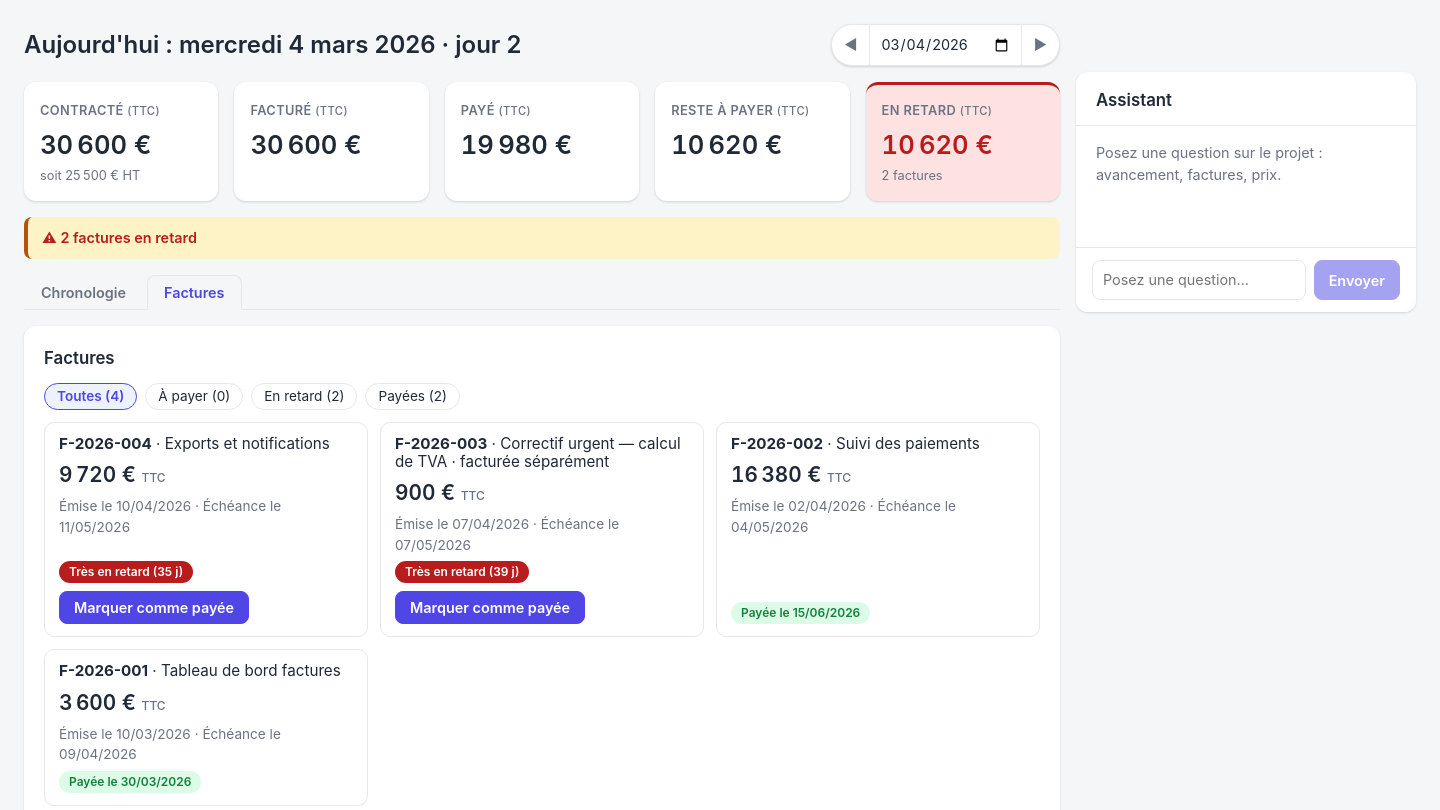
ClientPage › the invoice drawer › closes with ✕ and refocuses the card
Click the button "F-2026-003": coordinates (542, 453) [395,435,689,471]
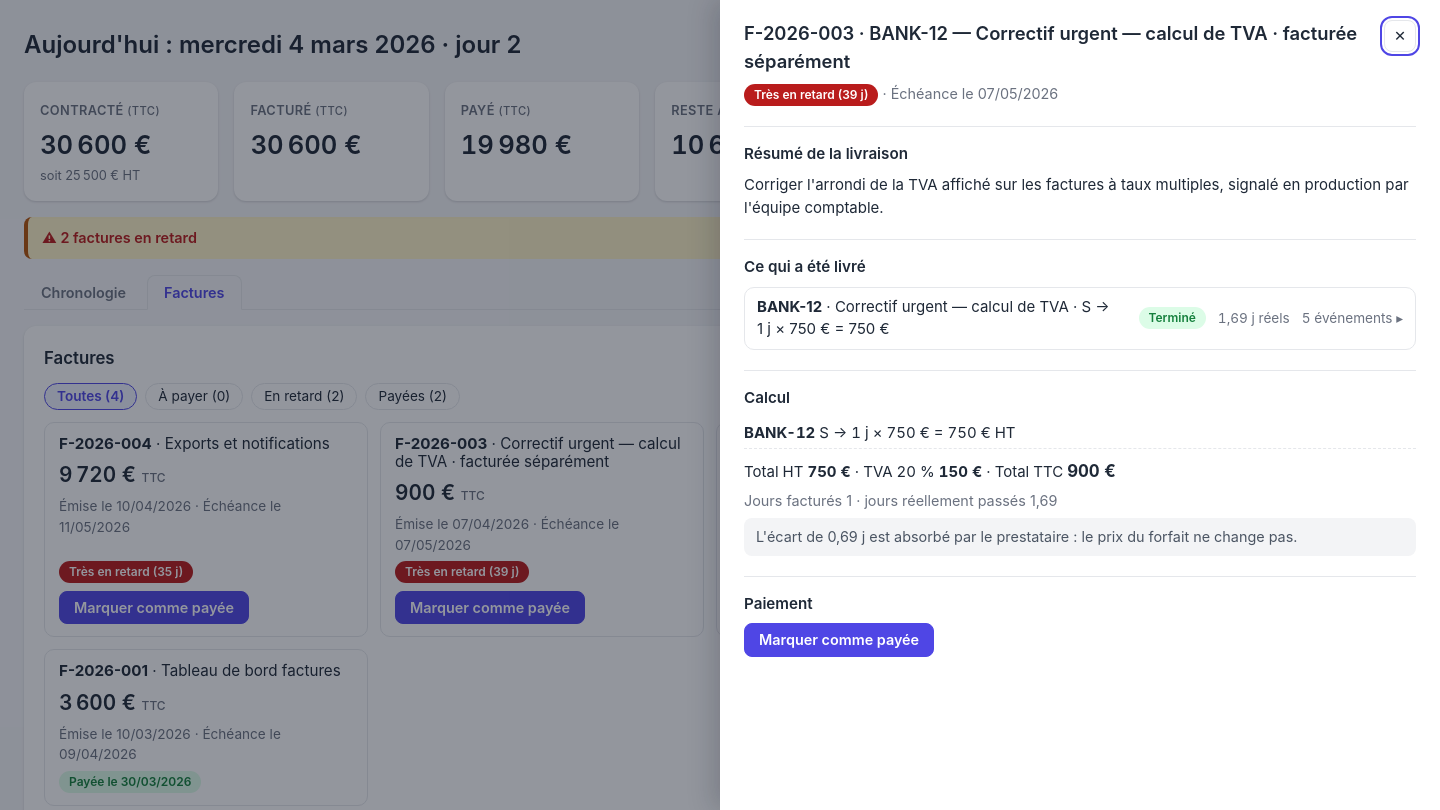
Click the button named "Fermer": coordinates (1400, 36) [1384,20,1416,52]
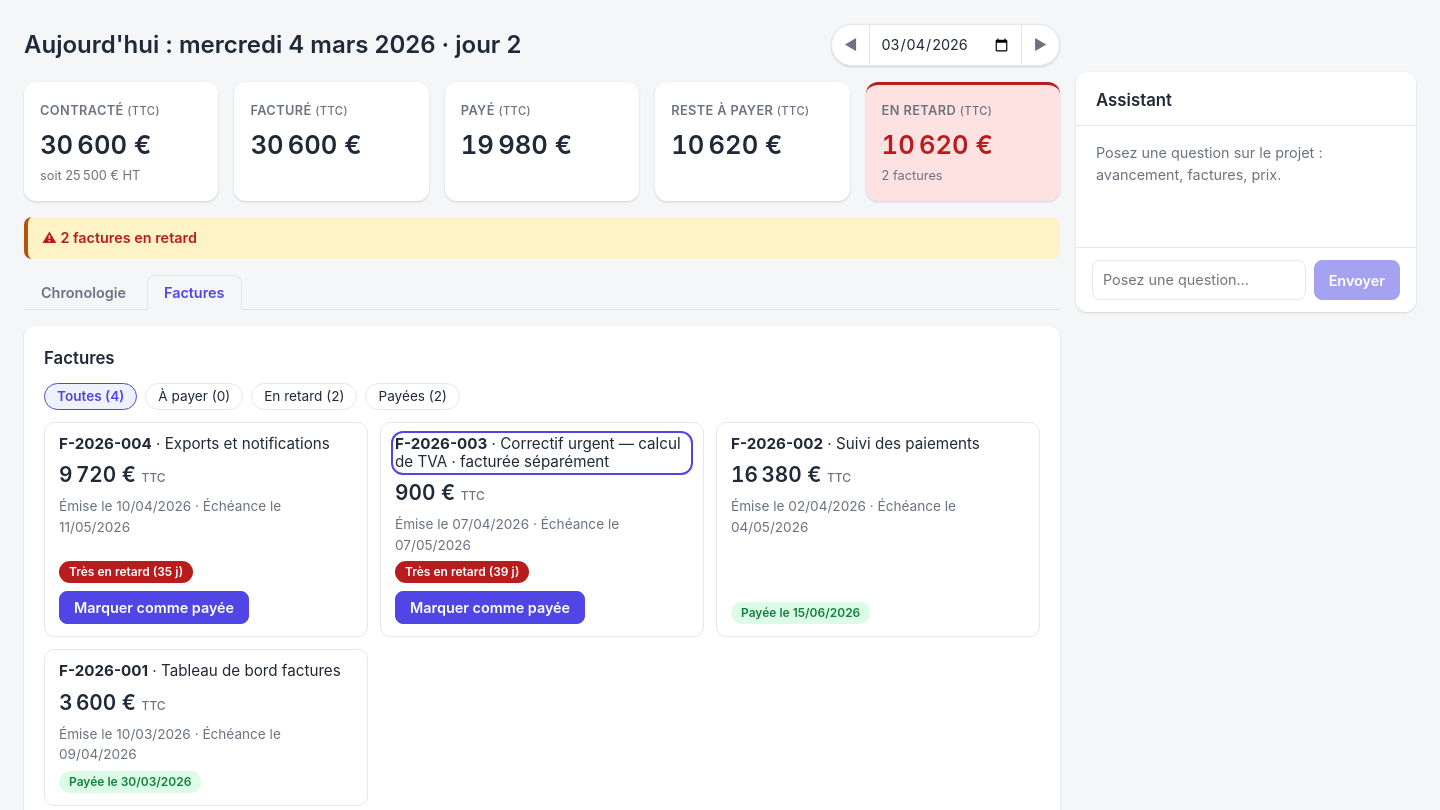
Now the dialog is gone
